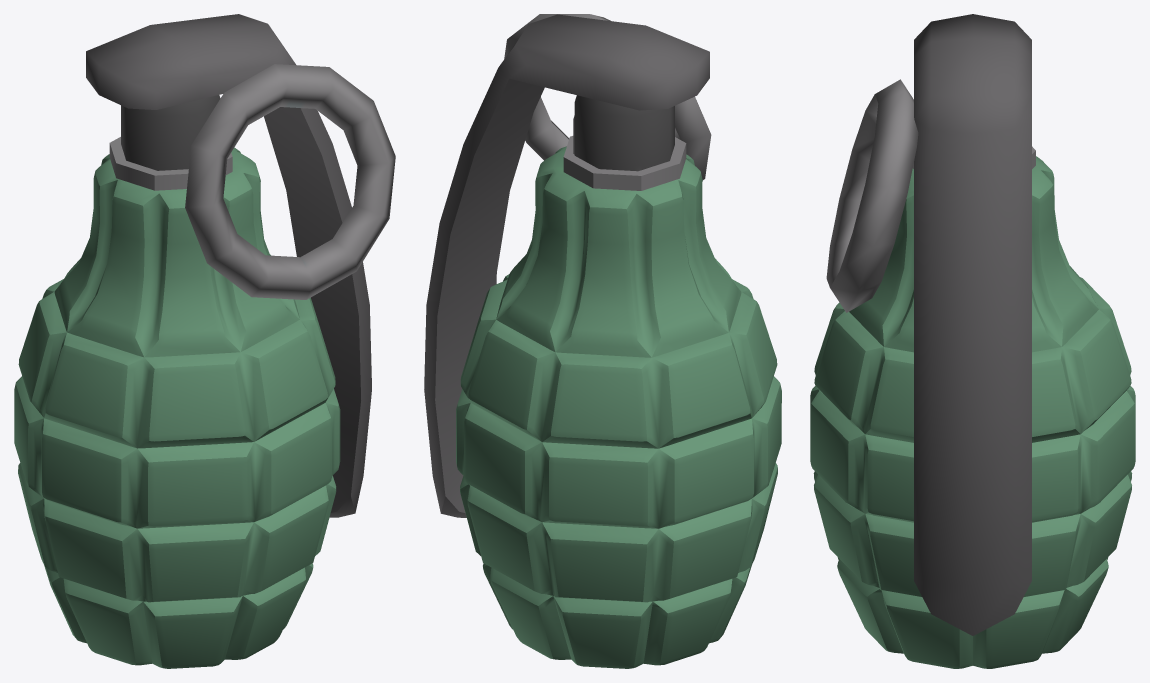
Rendered from Granade_Pinned.fbx.
The picture shows the model from 3 angles, left to right: view 1: azimuth 30°, elevation 25°; view 2: azimuth 150°, elevation 25°; view 3: azimuth 270°, elevation 25°; orthographic projection.
Parts seen in each view (by area): view 1: SM_GrenadePinned_LOD0.mo; view 2: SM_GrenadePinned_LOD0.mo; view 3: SM_GrenadePinned_LOD0.mo.
Boxes of the visible parts, x1,y1,x2,y2 form: SM_GrenadePinned_LOD0.mo: (14, 14, 395, 668); SM_GrenadePinned_LOD0.mo: (424, 14, 781, 668); SM_GrenadePinned_LOD0.mo: (810, 14, 1135, 668).
Bounding box in the file's own units: 16.92 × 29.48 × 14.84.
Materials: 1 (1 with a texture image).
